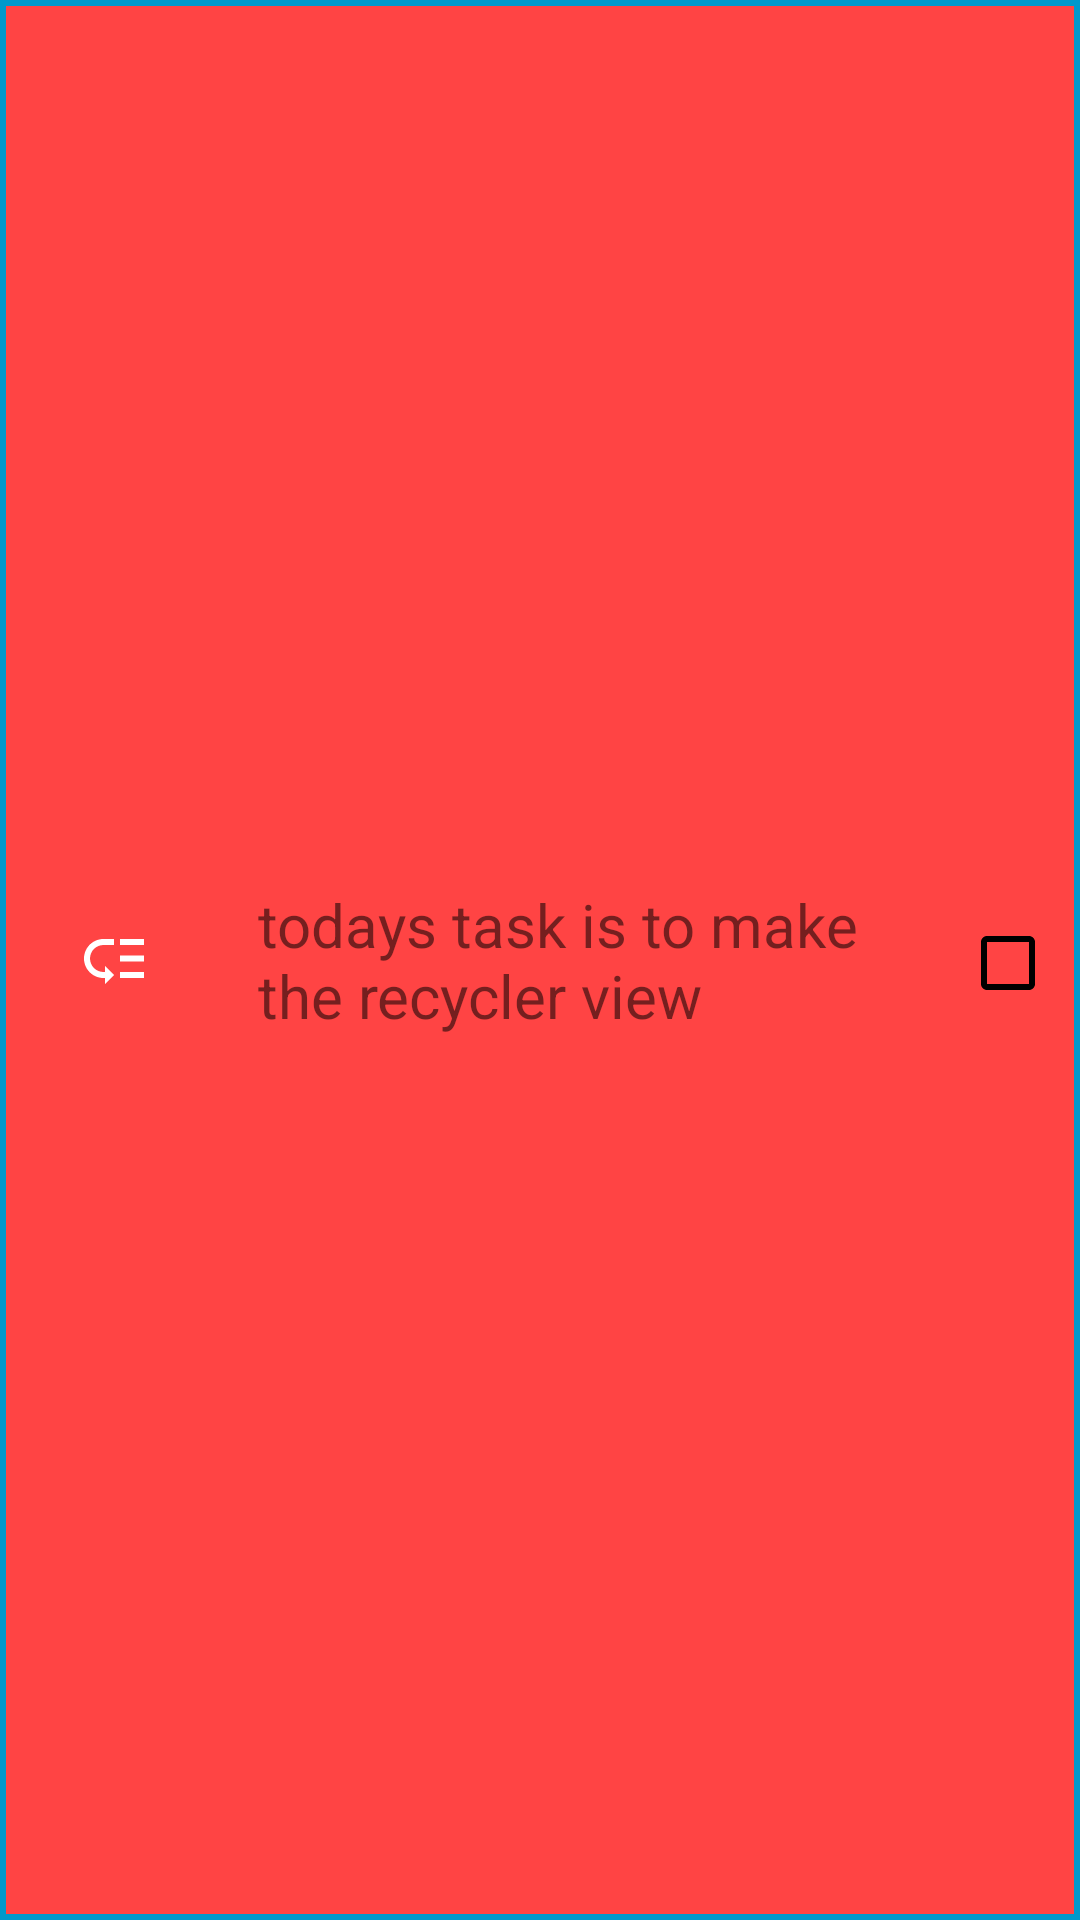

Named icons in this screenshot (1080px x 1920px) and their bounding boxes, (x1, y1, x2, y2):
low priority: (84, 939, 144, 984)
